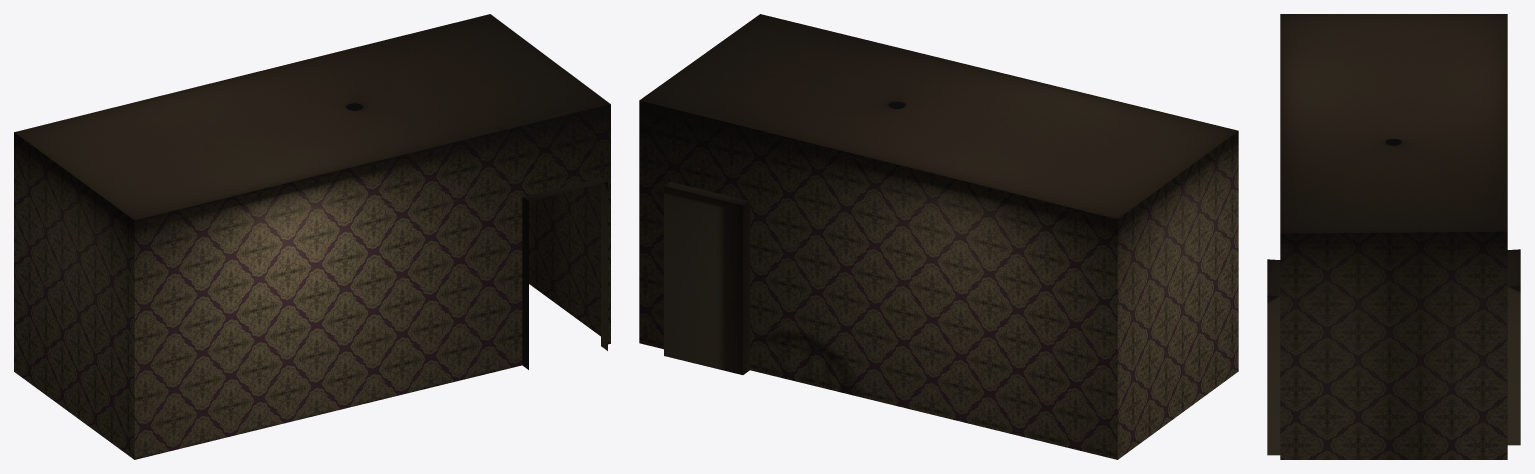
The model's file is upstairsfoyer.obj.
3 views of the same model, side by side, from view 1: azimuth 30°, elevation 25°; view 2: azimuth 150°, elevation 25°; view 3: azimuth 270°, elevation 25° (orthographic). The views are drawn at different scales.
Visible parts, largest first — view 1: upstairsfoyer1 ExportGeo; view 2: upstairsfoyer1 ExportGeo; view 3: upstairsfoyer1 ExportGeo.
Part boxes in pixels (bbox=[...]): upstairsfoyer1 ExportGeo: bbox=[14, 14, 610, 459]; upstairsfoyer1 ExportGeo: bbox=[639, 14, 1238, 459]; upstairsfoyer1 ExportGeo: bbox=[1267, 14, 1520, 459].
Bounding box in the file's own units: 6.4 × 3.1 × 3.12.
